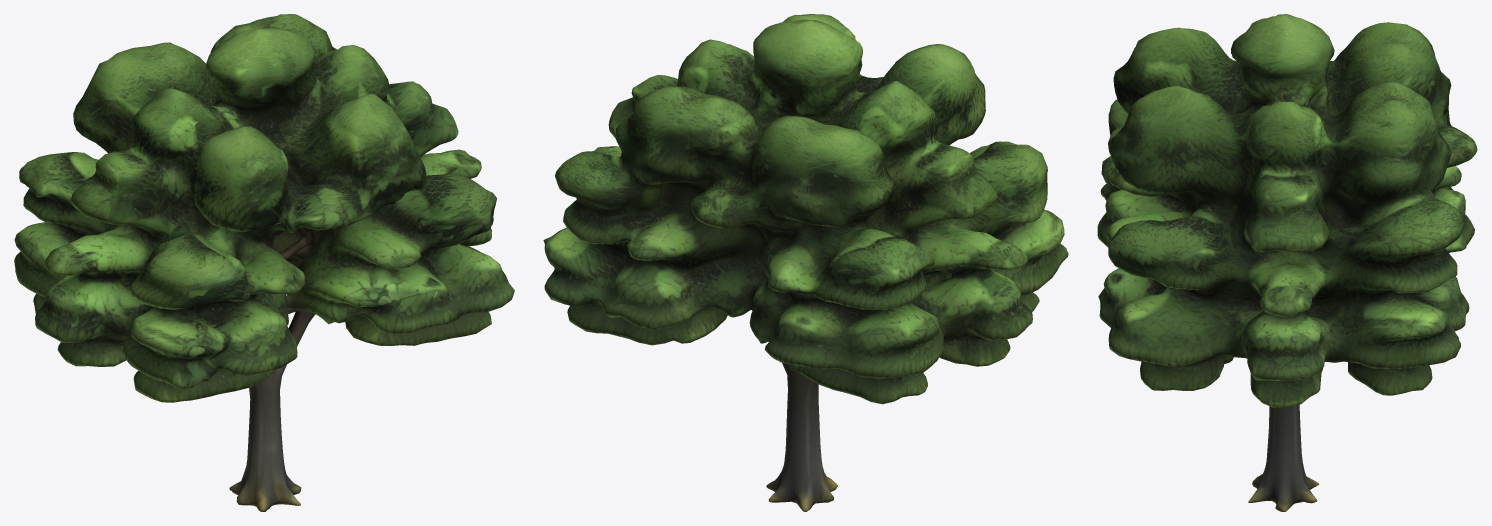
File: tree.glb
The picture shows the model from 3 angles, left to right: view 1: azimuth 30°, elevation 25°; view 2: azimuth 150°, elevation 25°; view 3: azimuth 270°, elevation 25°; orthographic projection.
Visible parts, largest first — view 1: model; view 2: model; view 3: model.
Part boxes in pixels (x1,y1,x2,y2): model: (14, 14, 514, 511); model: (543, 14, 1068, 511); model: (1097, 14, 1477, 511).
Bounding box in the file's own units: 1.75 × 1.79 × 1.3.
1 material, 1 textured.
